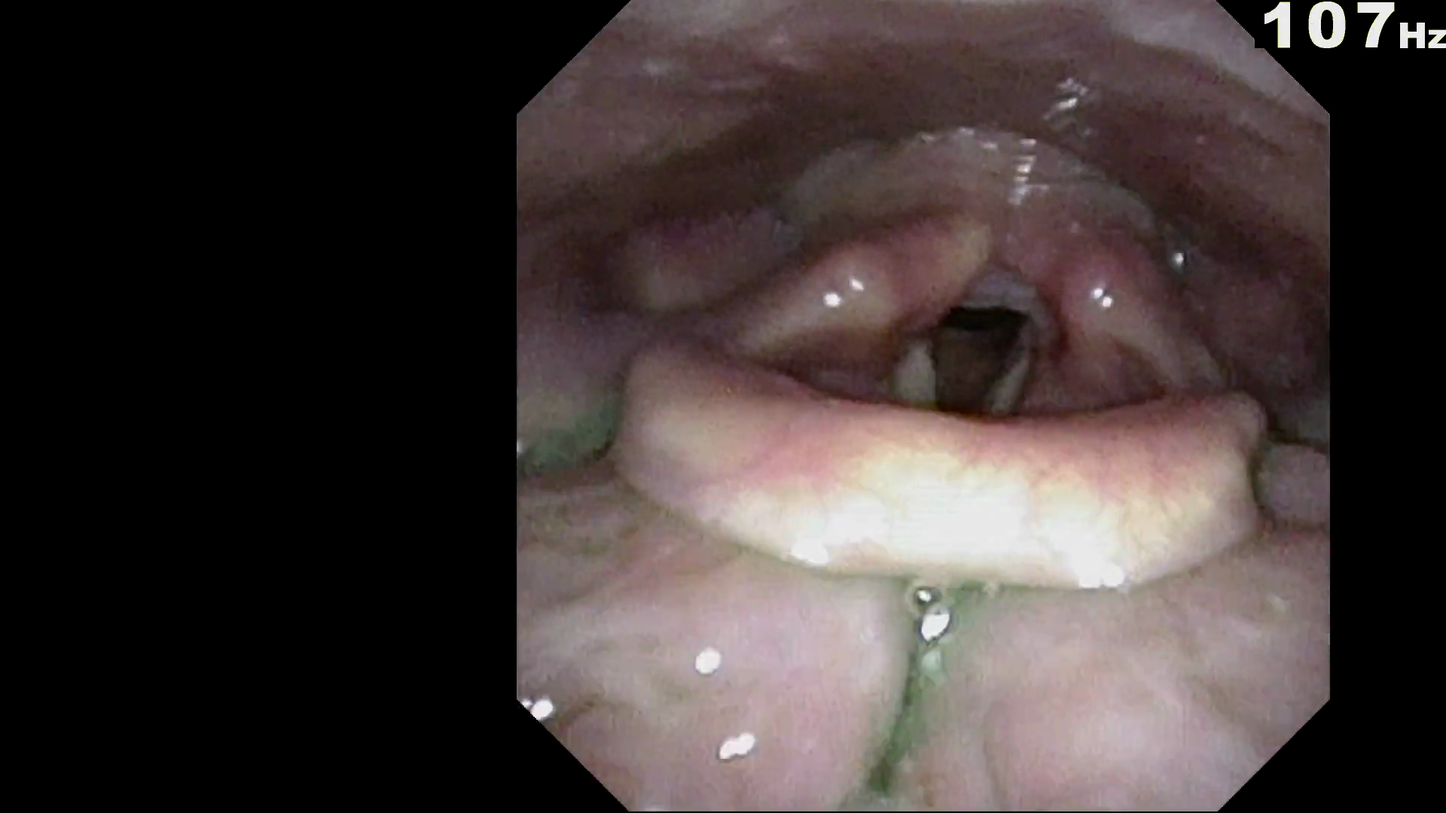epiglottis: (623, 340, 1281, 581)
trachea: (918, 292, 1027, 426)
